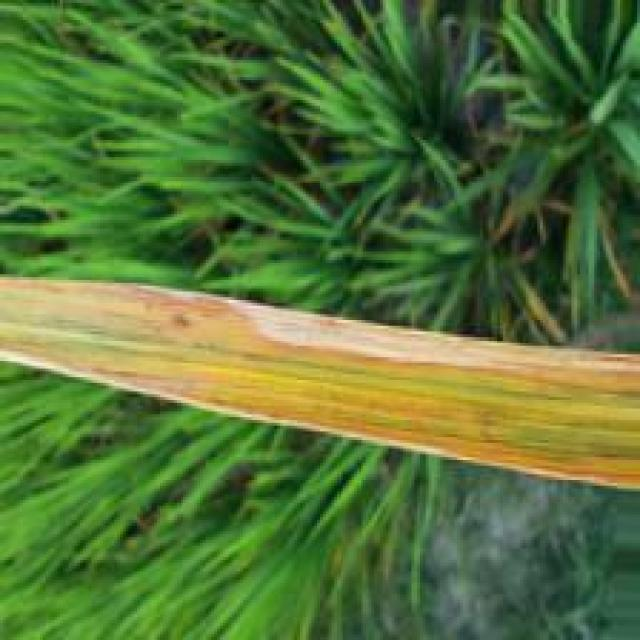Bacterial_Leaf_Blight: (50, 283, 640, 397)
